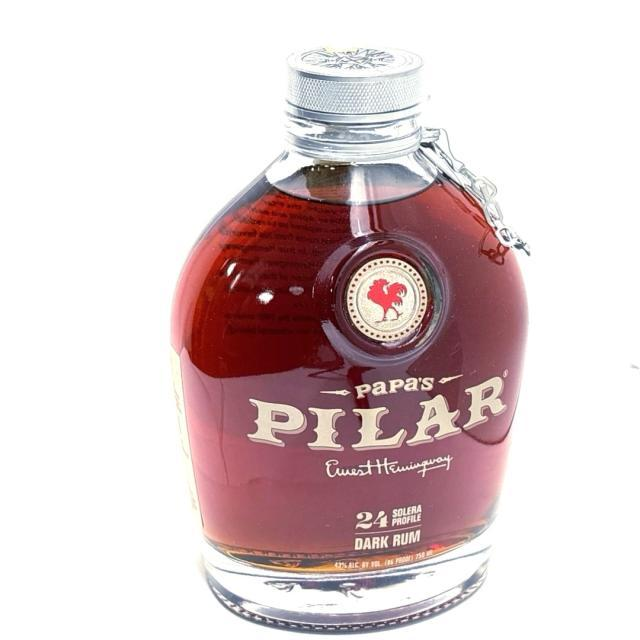Papa-s-Pilar-Bourbon-Barrel-Finish-Rum-750ml-ABV-43-: (168, 39, 532, 638)
